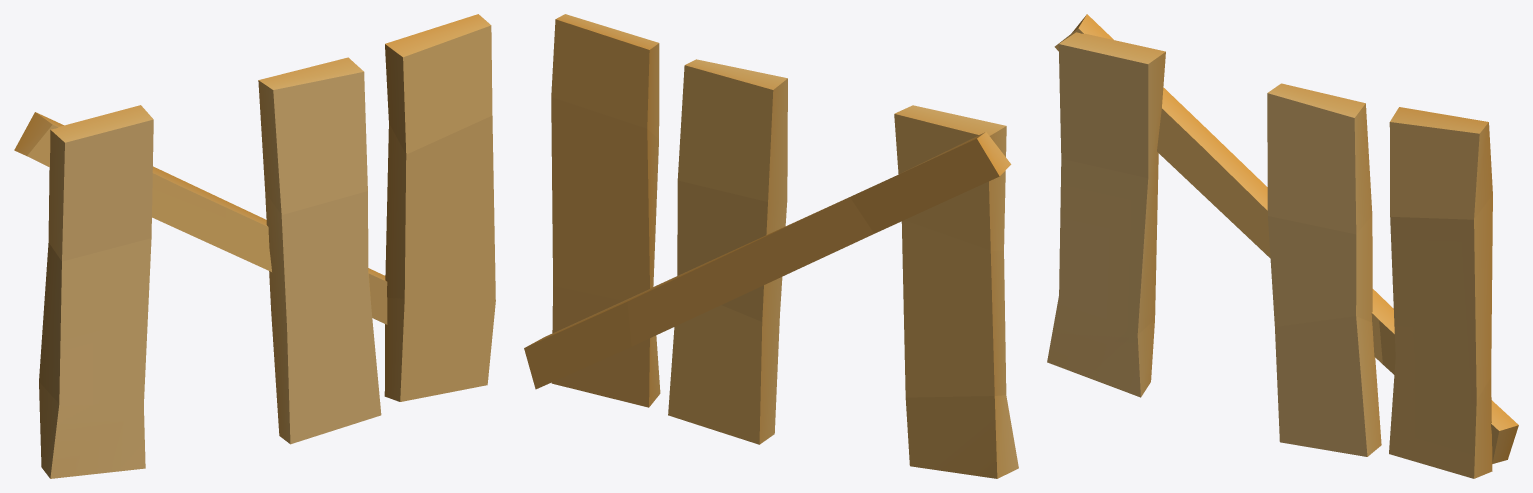
The model's file is PagarKayu7.fbx.
The picture shows the model from 3 angles, left to right: view 1: azimuth 30°, elevation 25°; view 2: azimuth 150°, elevation 25°; view 3: azimuth 330°, elevation 25°; orthographic projection. The views are drawn at different scales.
Visible parts, largest first — view 1: Fence_02; view 2: Fence_02; view 3: Fence_02.
Boxes of the visible parts, x1,y1,x2,y2 form: Fence_02: [14, 14, 495, 478]; Fence_02: [524, 14, 1018, 478]; Fence_02: [1047, 14, 1518, 478].
Bounding box in the file's own units: 103 × 77.78 × 11.79.
